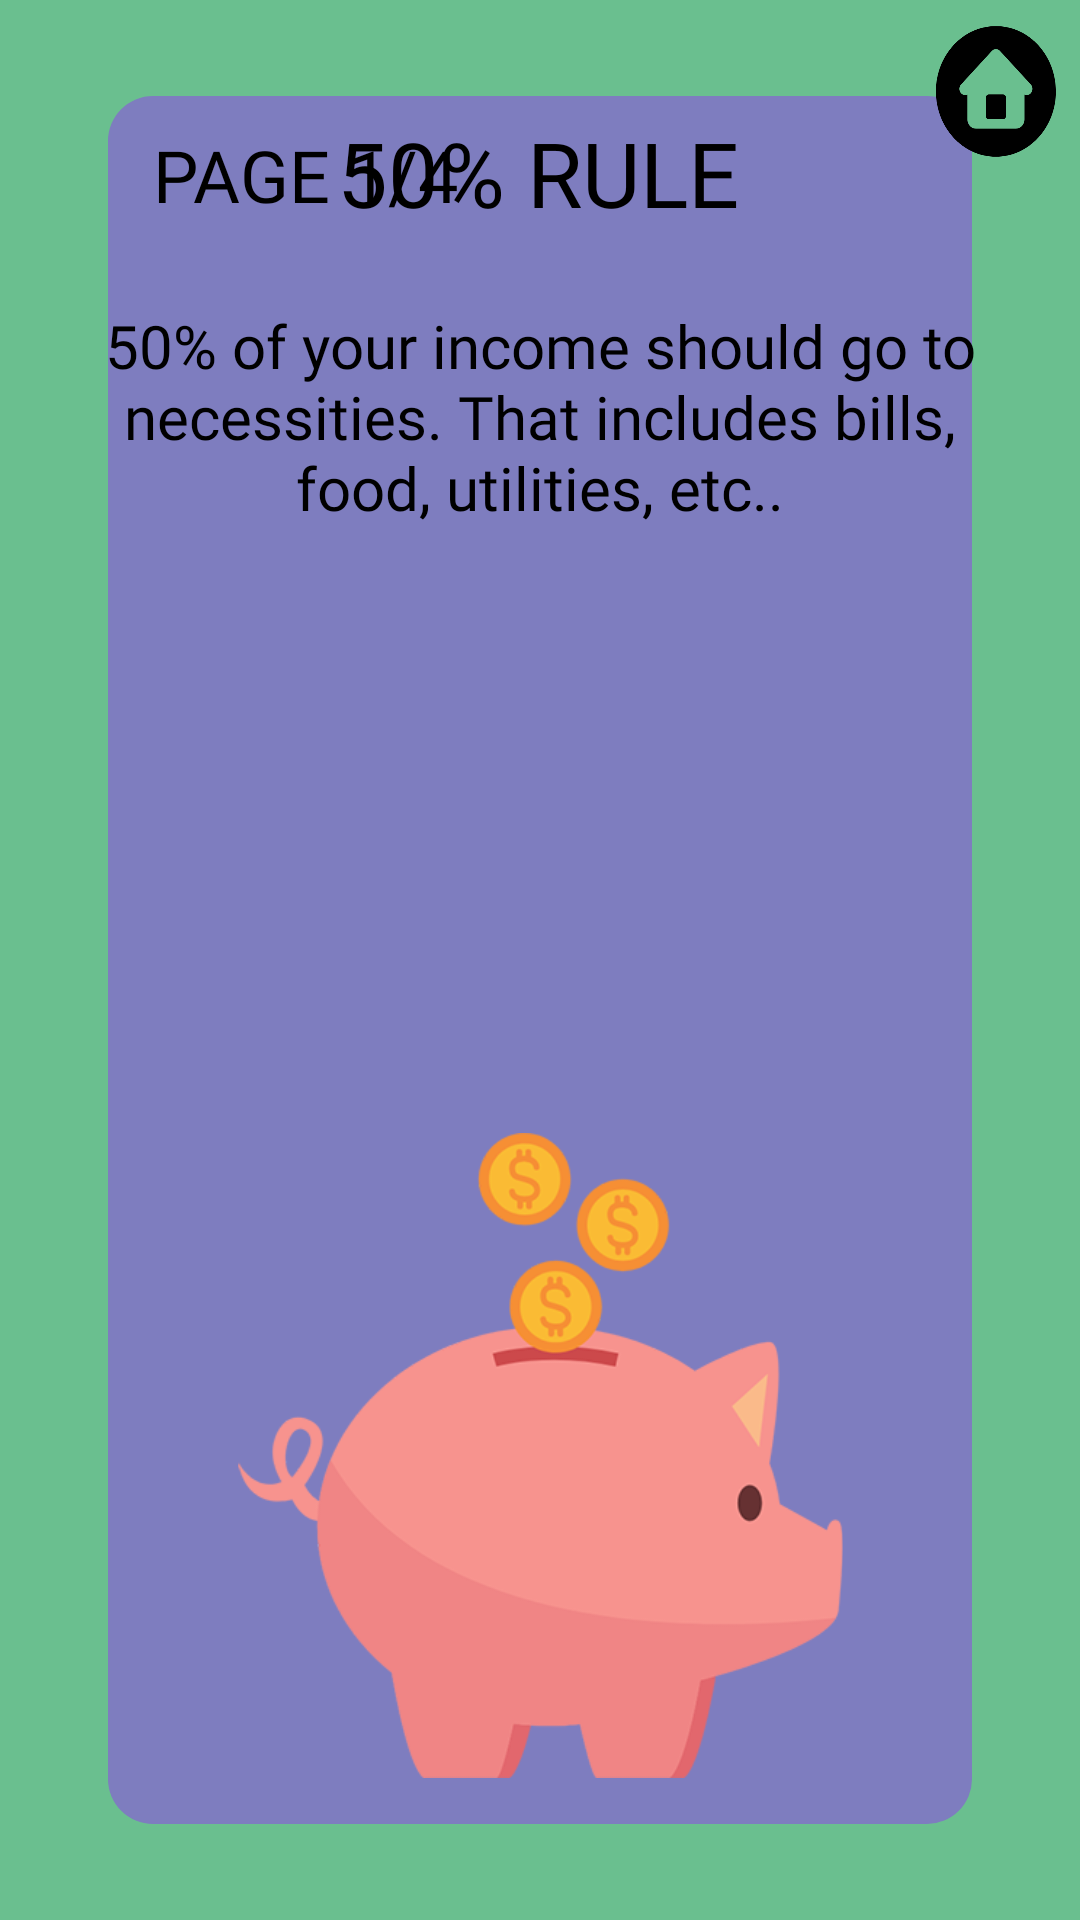

Icons on this 1080 × 1920 Android screen, each with the point to tap as point (x, y):
home: point (996, 91)
